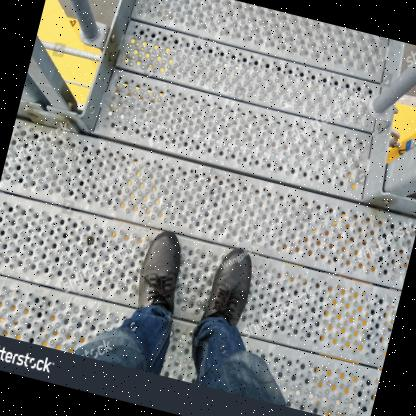bota: (129, 224, 194, 322), (198, 243, 262, 337)
